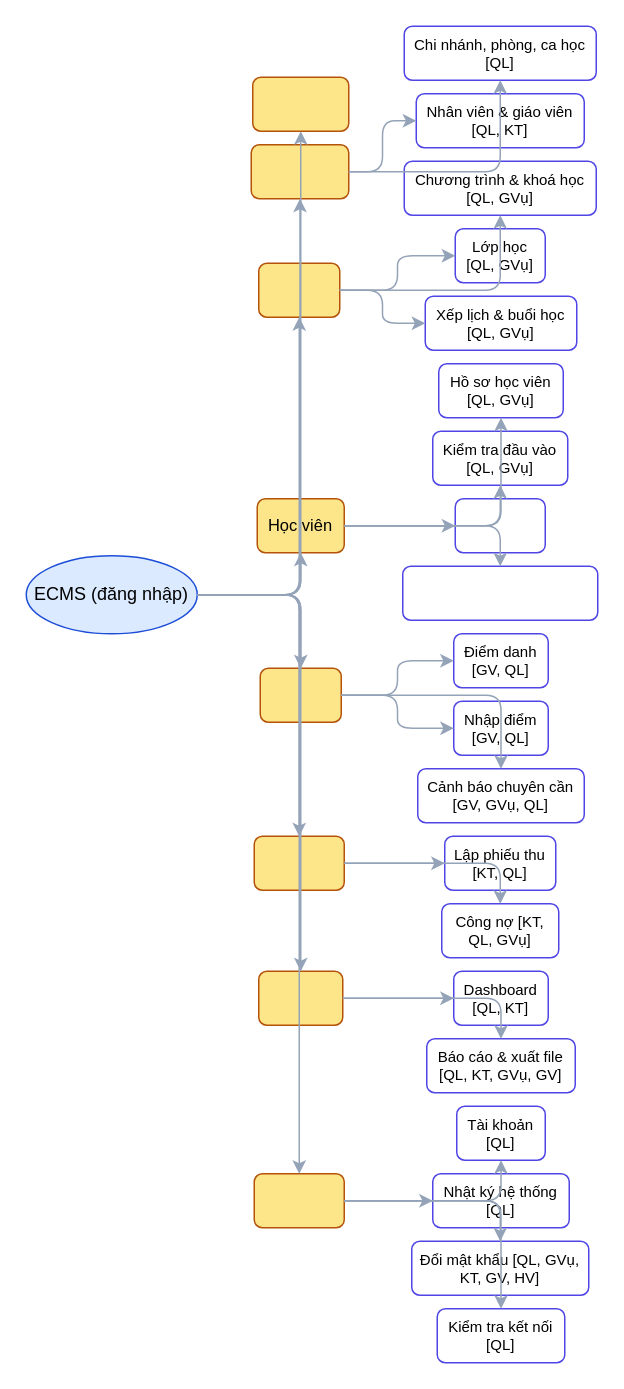
The diagram is 624 pixels wide and 1389 high, and some of its shapes have lost their labels. Each missing label, with the box of its shape:
Báo cáo: (257, 970, 343, 1025)
Danh mục: (250, 143, 349, 199)
Ghi danh [QL, GVụ]: (454, 497, 545, 553)
Hệ thống: (253, 1172, 344, 1228)
Học tập: (259, 667, 341, 722)
Lịch học & kết quả của tôi [HV]: (401, 565, 598, 620)
Trang chủ: (251, 76, 349, 131)
Tài chính: (253, 835, 344, 890)
Đào tạo: (257, 262, 340, 317)
